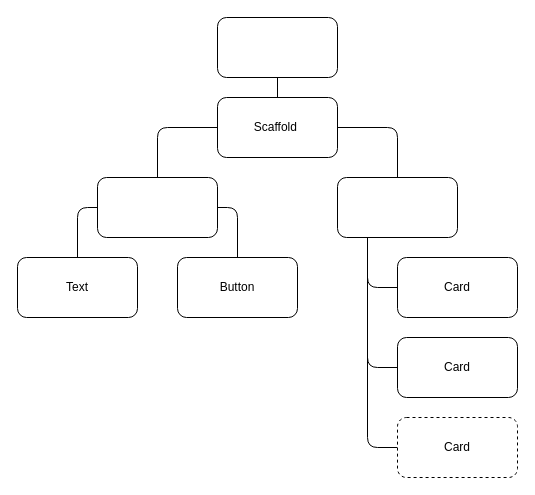
Some shapes in this 535 by 495 pixel diagram are drawn without their labels. The shapes that lost their labels are listed below. From the top down, each one's centre as x and y in pixels, then its label:
At point (277, 47): "WisdomFeed".
At point (157, 207): "AppBar".
At point (397, 207): "ListView".
